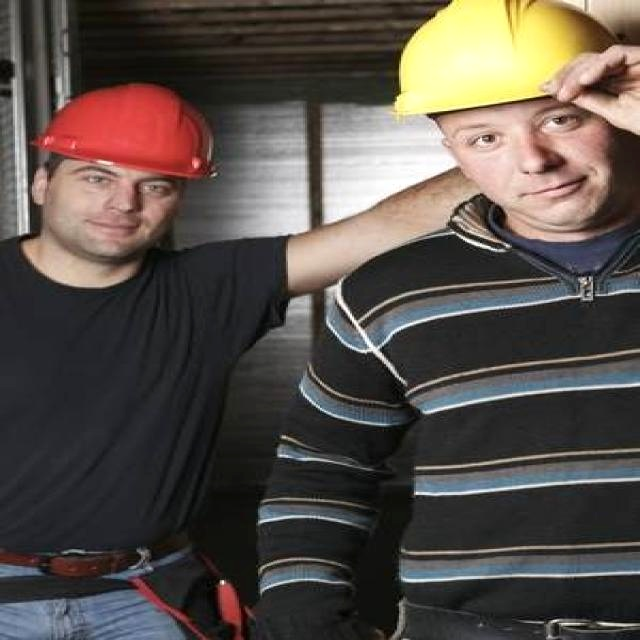Con_Casco: (392, 0, 640, 222), (40, 85, 216, 238)
Sin_Chaleco: (336, 230, 640, 616), (0, 241, 228, 553)
